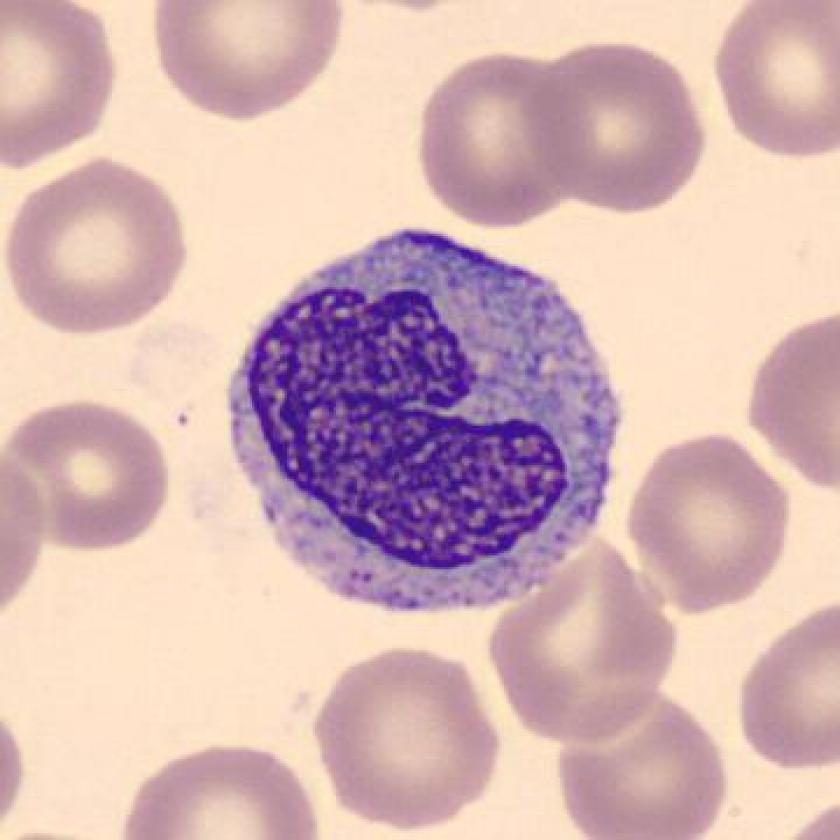monocyte: (209, 216, 650, 635)
